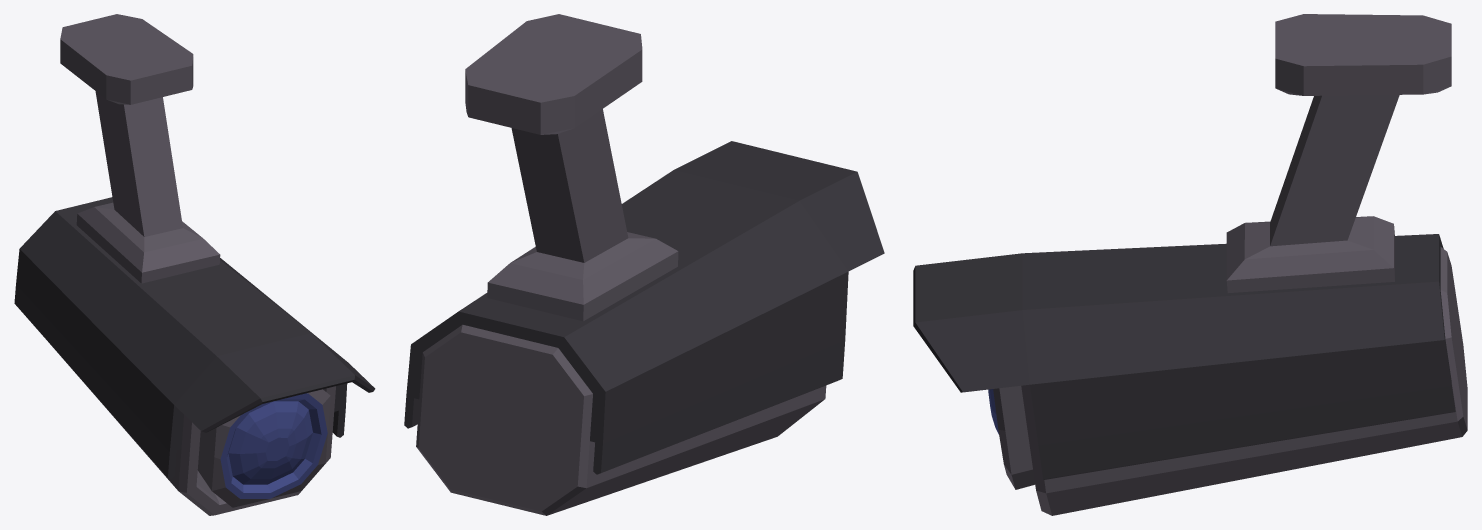
File: SecurityCam.glb
3 views of the same model, side by side, from view 1: azimuth 30°, elevation 25°; view 2: azimuth 150°, elevation 25°; view 3: azimuth 270°, elevation 25° (orthographic). The views are drawn at different scales.
Visible parts, largest first — view 1: camera; view 2: camera; view 3: camera.
Boxes of the visible parts, x1,y1,x2,y2 form: camera: [14, 14, 375, 515]; camera: [404, 14, 884, 515]; camera: [913, 14, 1467, 515].
Bounding box in the file's own units: 0.2749 × 0.5462 × 0.6097.
